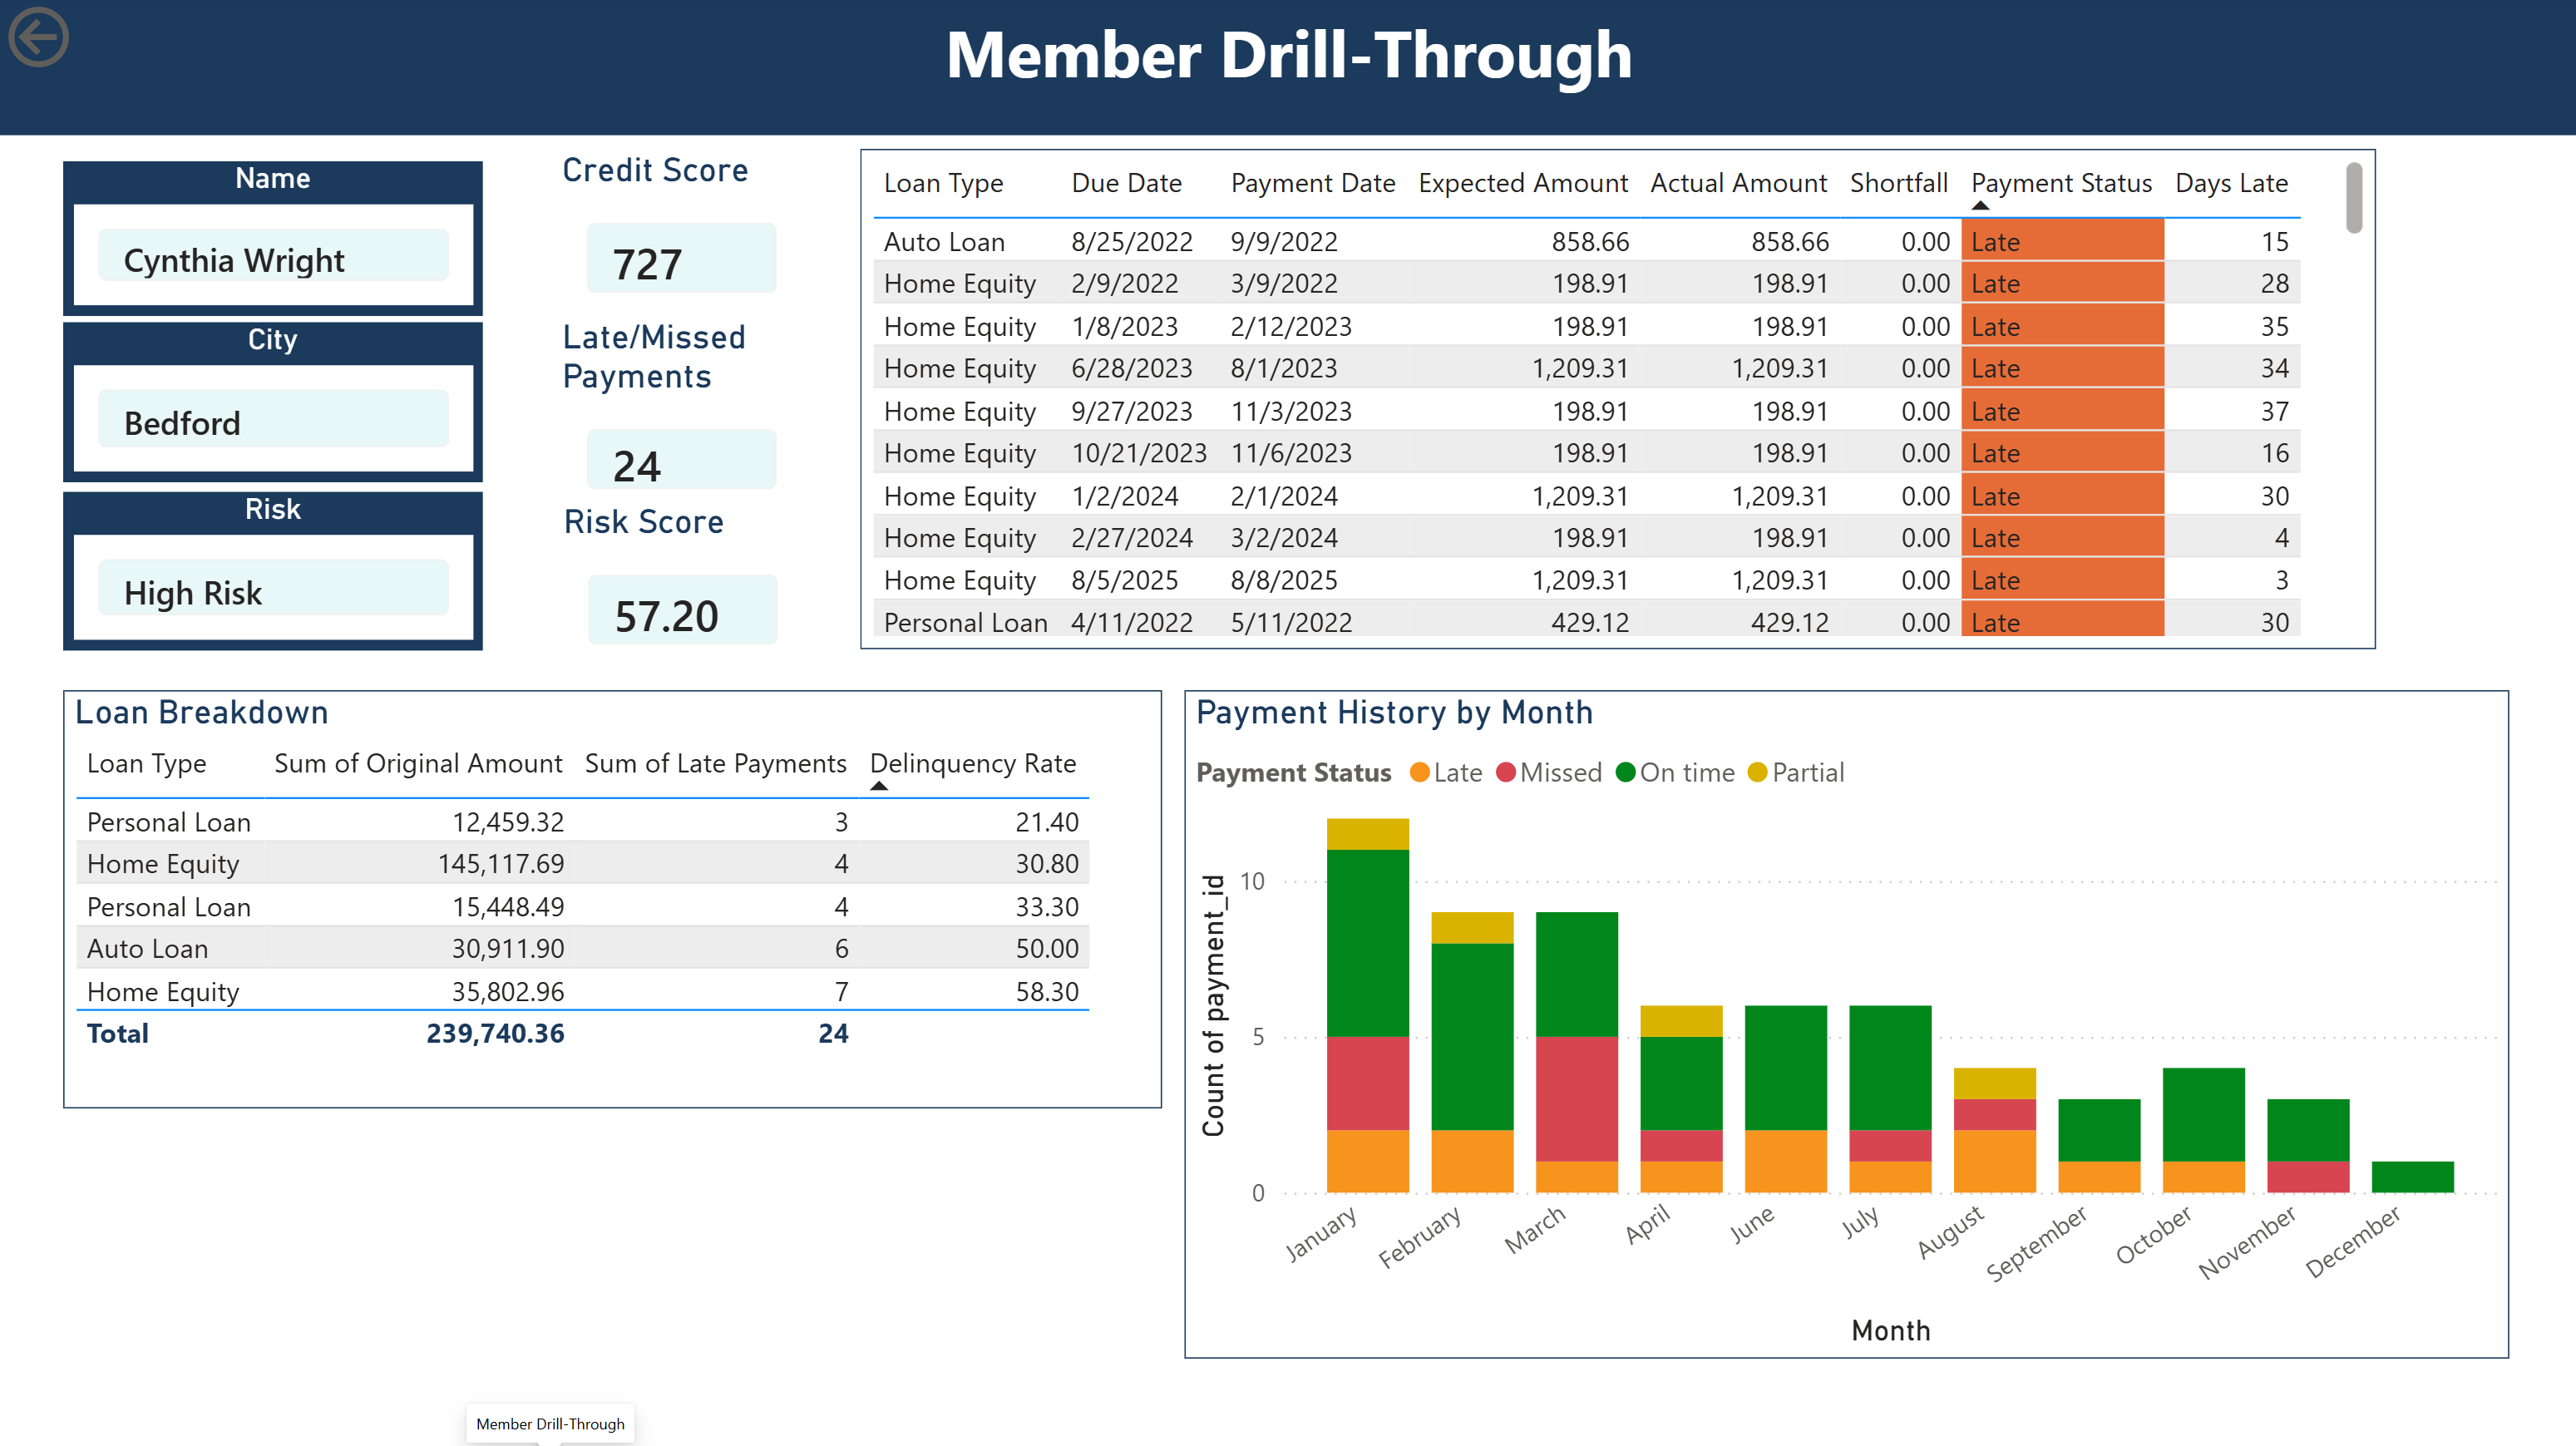

The page's visual inventory and layout, read from the dashboard file:
{"tool":"powerbi","page":{"name":"Member Drill-Through","canvas":[1280,720],"ordinal":2},"visuals":[{"type":"textbox","box":[0,0,1279.7,68.9],"z":500},{"type":"actionButton","box":[0,0,100,40],"z":1000},{"type":"cardVisual","title":"Credit Score","fields":{"Data":["Avg(member_delinquency_scored.credit_score)"]},"box":[274.3,75.7,128.4,89.2],"z":2000},{"type":"cardVisual","title":"Late/Missed Payments","fields":{"Data":["Sum(member_delinquency_scored.late_payment_count)"]},"box":[274.4,158.1,128.1,102.5],"z":3000},{"type":"cardVisual","title":"Name","fields":{"Data":["Min(member_delinquency_scored.member_name)"]},"box":[32.4,81.8,208.1,76.4],"z":4000},{"type":"cardVisual","title":"City","fields":{"Data":["Min(member_delinquency_scored.city)"]},"box":[32.4,161.5,208.1,79.1],"z":5000},{"type":"cardVisual","title":"Risk Score","fields":{"Data":["Avg(member_delinquency_scored.risk_score)"]},"box":[275,250,128.1,88.8],"z":6000},{"type":"cardVisual","title":"Risk","fields":{"Data":["Min(member_delinquency_scored.risk_tier)"]},"box":[32.4,245.3,208.1,78.4],"z":7000},{"type":"tableEx","title":"Loan Breakdown","fields":{"Values":["member_loan_summary.loan_type","Sum(member_loan_summary.original_amount)","Sum(member_loan_summary.late_payments)","Sum(member_loan_summary.loan_delinquency_rate)"]},"box":[32.4,343.9,544.6,207.4],"z":8000},{"type":"columnChart","title":"Payment History by Month","fields":{"Series":["payment_detail.payment_status"],"Y":["CountNonNull(payment_detail.payment_id)"],"Category":["payment_detail.due_date.Variation.Date Hierarchy.Month"]},"box":[587.8,343.9,656.8,331.1],"z":9000},{"type":"tableEx","fields":{"Values":["payment_detail.loan_type","payment_detail.due_date","payment_detail.payment_date","Sum(payment_detail.expected_amount)","Sum(payment_detail.actual_amount)","Sum(payment_detail.shortfall)","payment_detail.payment_status","Sum(payment_detail.days_late)"]},"box":[427,75.7,751.4,248],"z":10000}]}

Visuals, with their boxes in screenshot pixels (x1, y1, x2, y2), scaled from the page's 1280x720 canvas onto the 2576x1446 screenshot:
textbox: box(0, 0, 2575, 138)
actionButton: box(0, 0, 201, 81)
"Credit Score" cardVisual: box(552, 152, 811, 331)
"Late/Missed Payments" cardVisual: box(552, 318, 810, 523)
"Name" cardVisual: box(65, 165, 484, 318)
"City" cardVisual: box(65, 324, 484, 483)
"Risk Score" cardVisual: box(554, 502, 812, 680)
"Risk" cardVisual: box(65, 492, 484, 650)
"Loan Breakdown" tableEx: box(65, 691, 1162, 1108)
"Payment History by Month" columnChart: box(1183, 691, 2504, 1355)
tableEx - payment_detail.loan_type x payment_detail.due_date: box(859, 152, 2371, 650)
